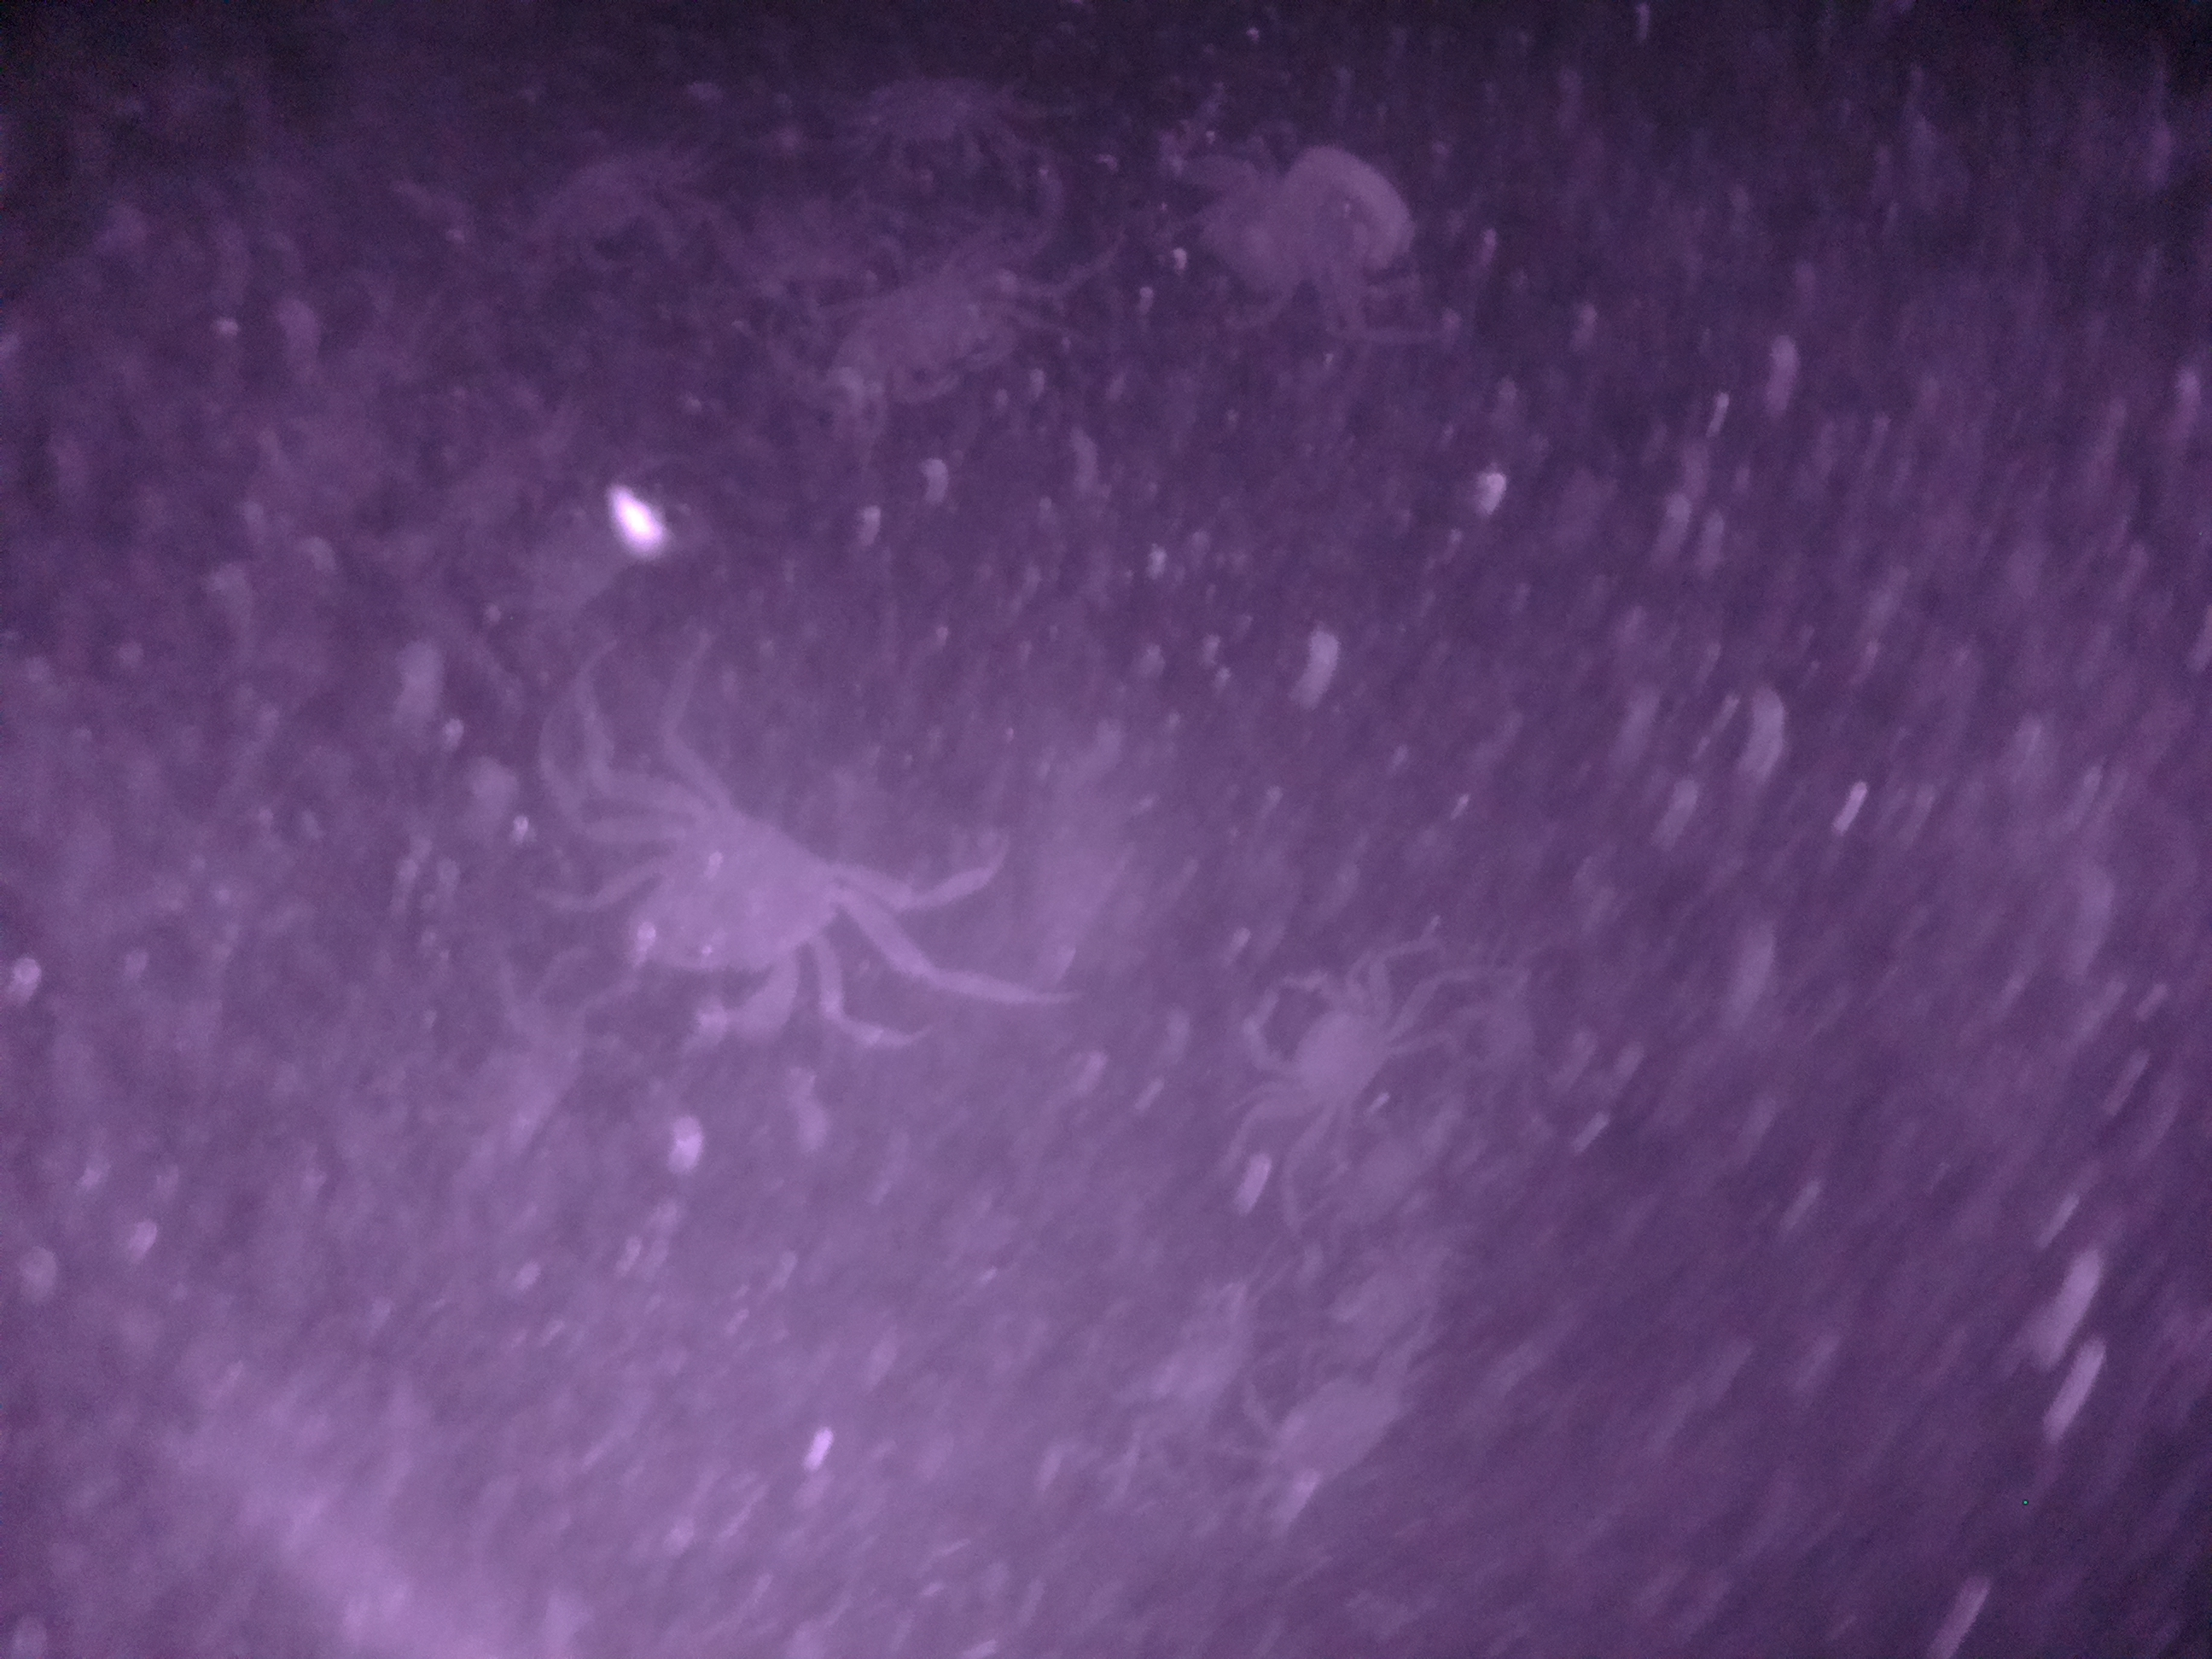Crab: (1219, 948, 1435, 1169)
